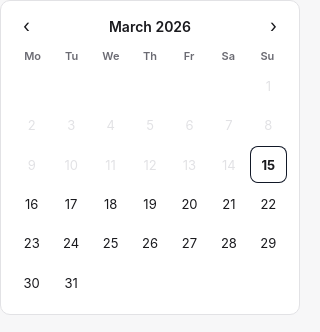
Test: Calendar › navigates to the next and previous month
The image size is (320, 332).
Step 1. Click the button named "Next month" → (274,26), box [260, 13, 287, 39]
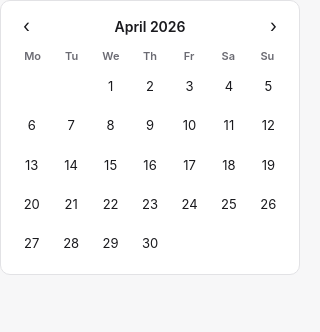
Check: the text "April 2026" is shown, box [114, 18, 186, 34]
Step 2. Click the button named "Previous month" → (26,26), box [13, 13, 40, 39]
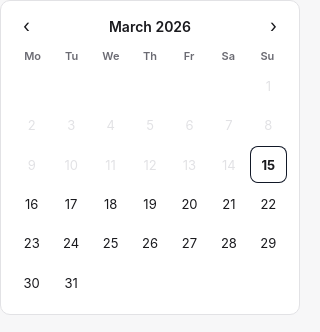
Step 3. Click the button named "Previous month" → (26,26), box [13, 13, 40, 39]
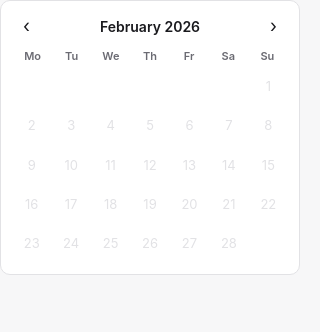
Check: the text "February 2026" is shown, box [100, 18, 200, 34]
